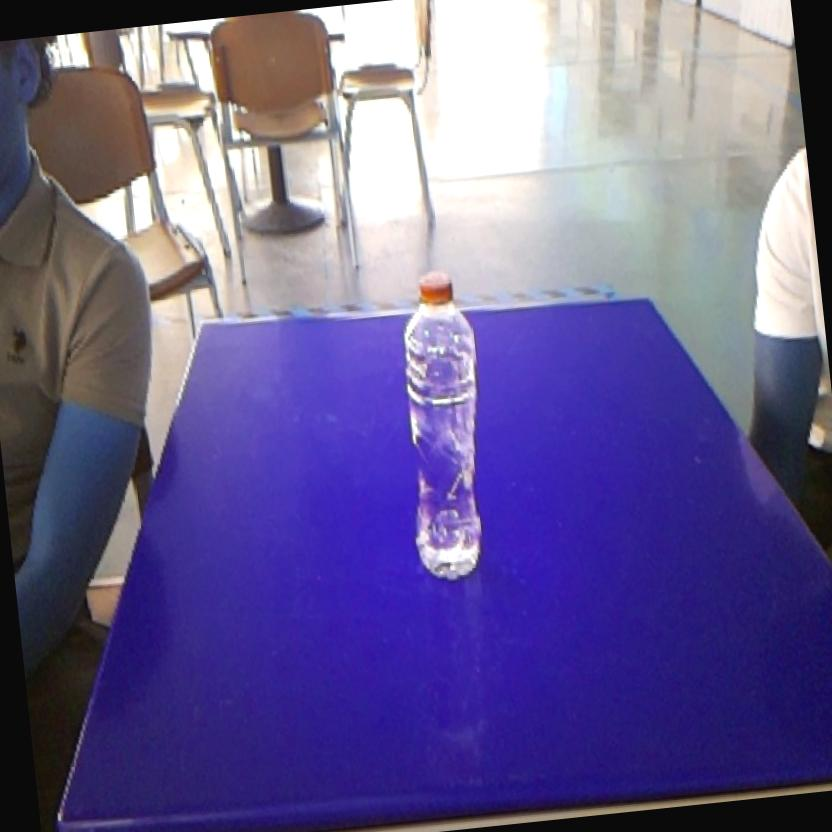no_label: (379, 254, 508, 594)
